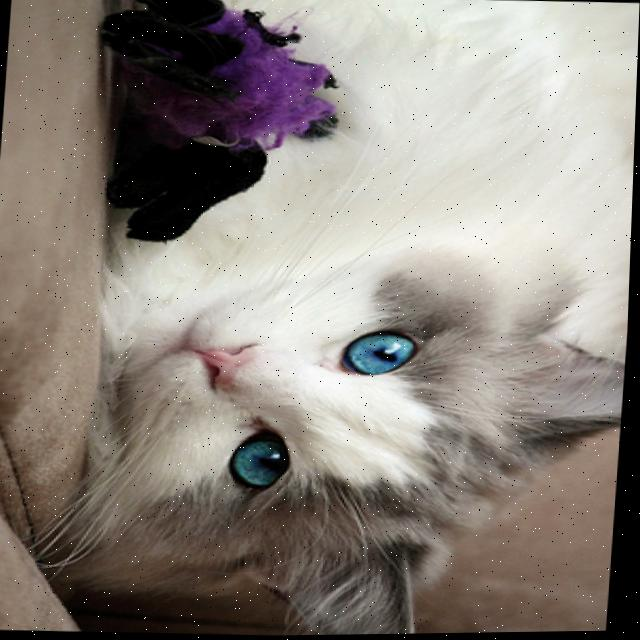Ragdoll: (62, 0, 640, 639)
